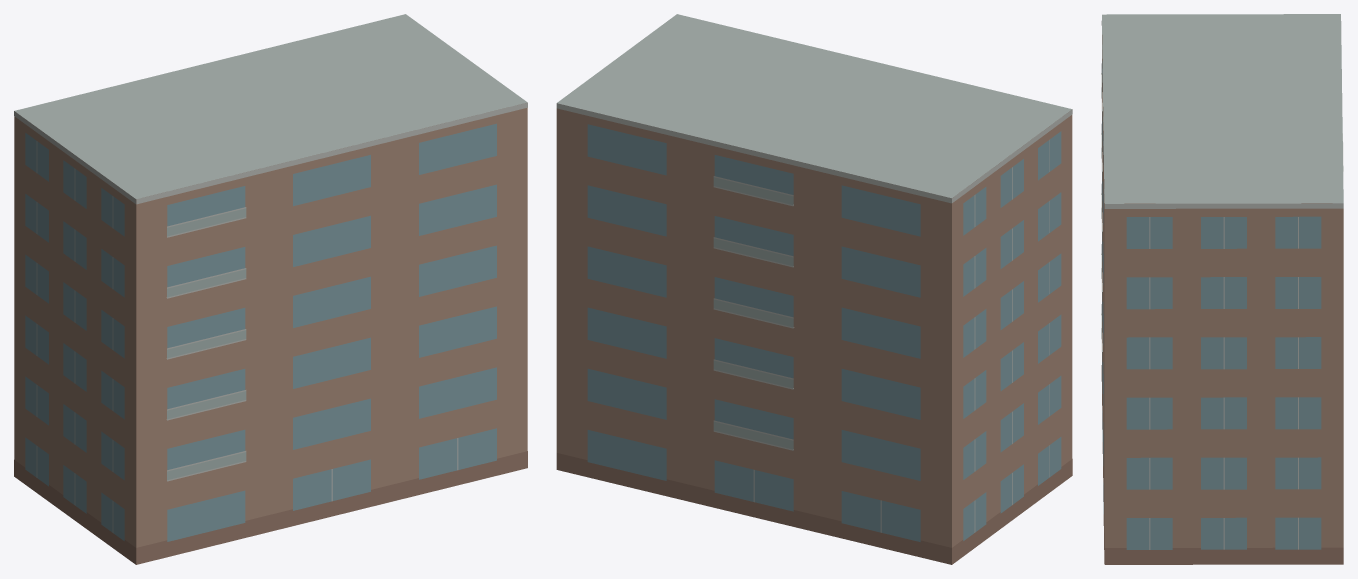
Rendered from survey-upis-32538437.glb.
3 renders of one model, left to right at view 1: azimuth 30°, elevation 25°; view 2: azimuth 150°, elevation 25°; view 3: azimuth 270°, elevation 25°, orthographic.
Visible parts, largest first — view 1: survey-upis-32538437.tmp; view 2: survey-upis-32538437.tmp; view 3: survey-upis-32538437.tmp.
Part boxes in pixels (x1,y1,x2,y2): survey-upis-32538437.tmp: (14, 14, 527, 564); survey-upis-32538437.tmp: (556, 14, 1072, 564); survey-upis-32538437.tmp: (1101, 14, 1343, 564).
Bounding box in the file's own units: 19.4 × 17.2 × 10.48.
